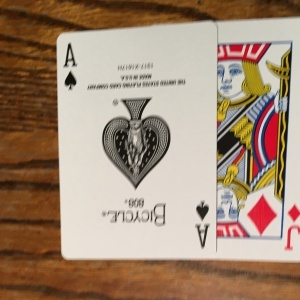card: (57, 20, 217, 263)
